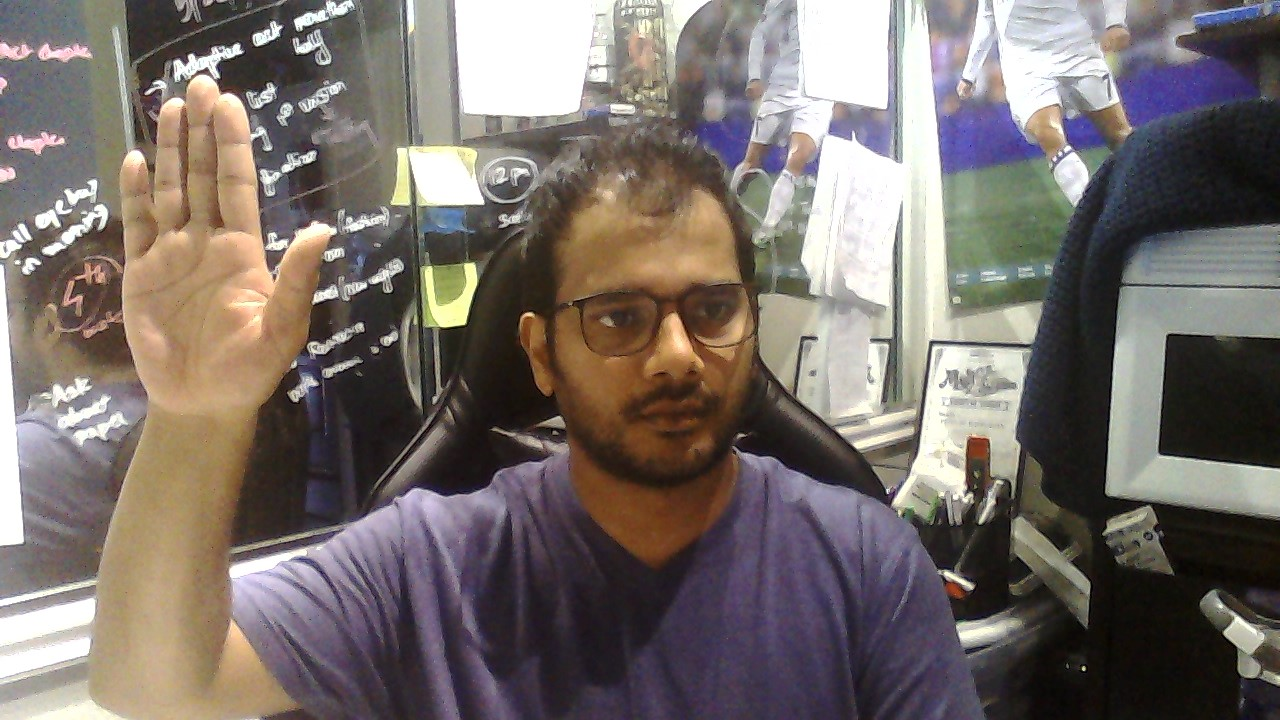Hello: (120, 75, 331, 407)
